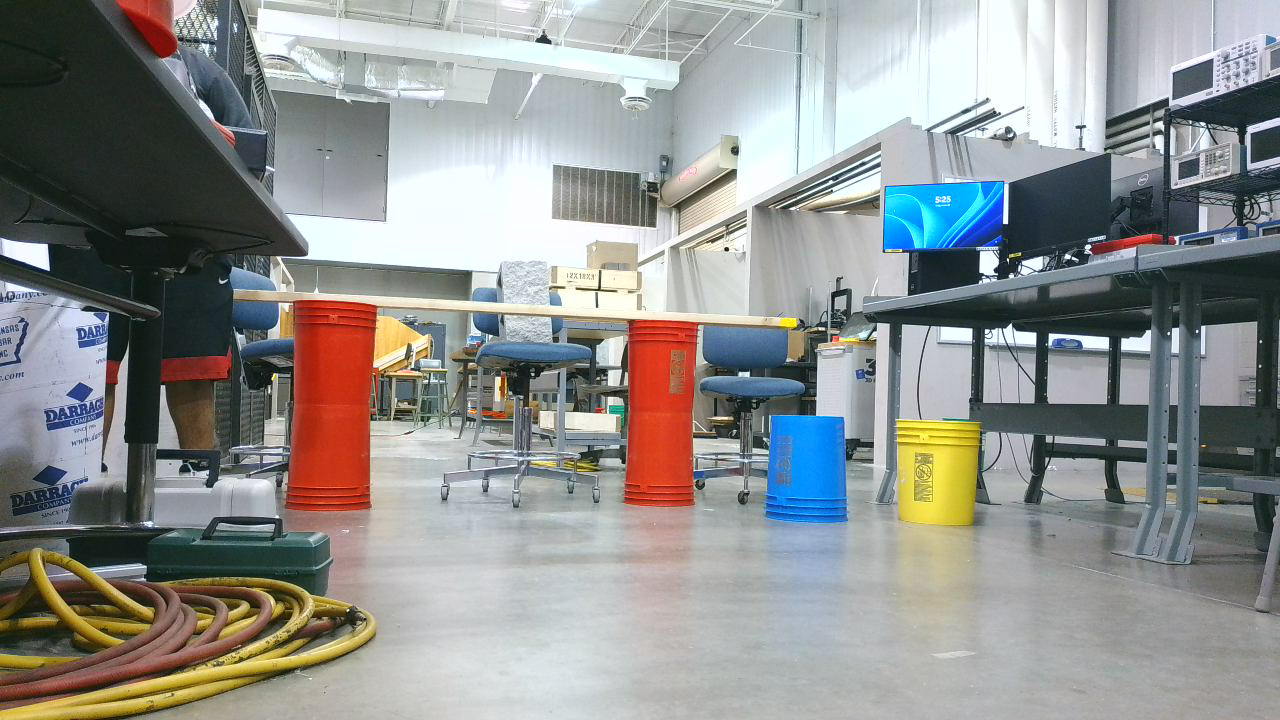blue_bucket: (766, 417, 858, 532)
red_bucket_arch: (287, 296, 707, 521)
yellow_bucket: (897, 421, 992, 538)
